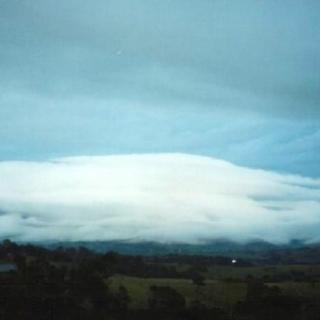Nimbostratus: (0, 0, 320, 268)
